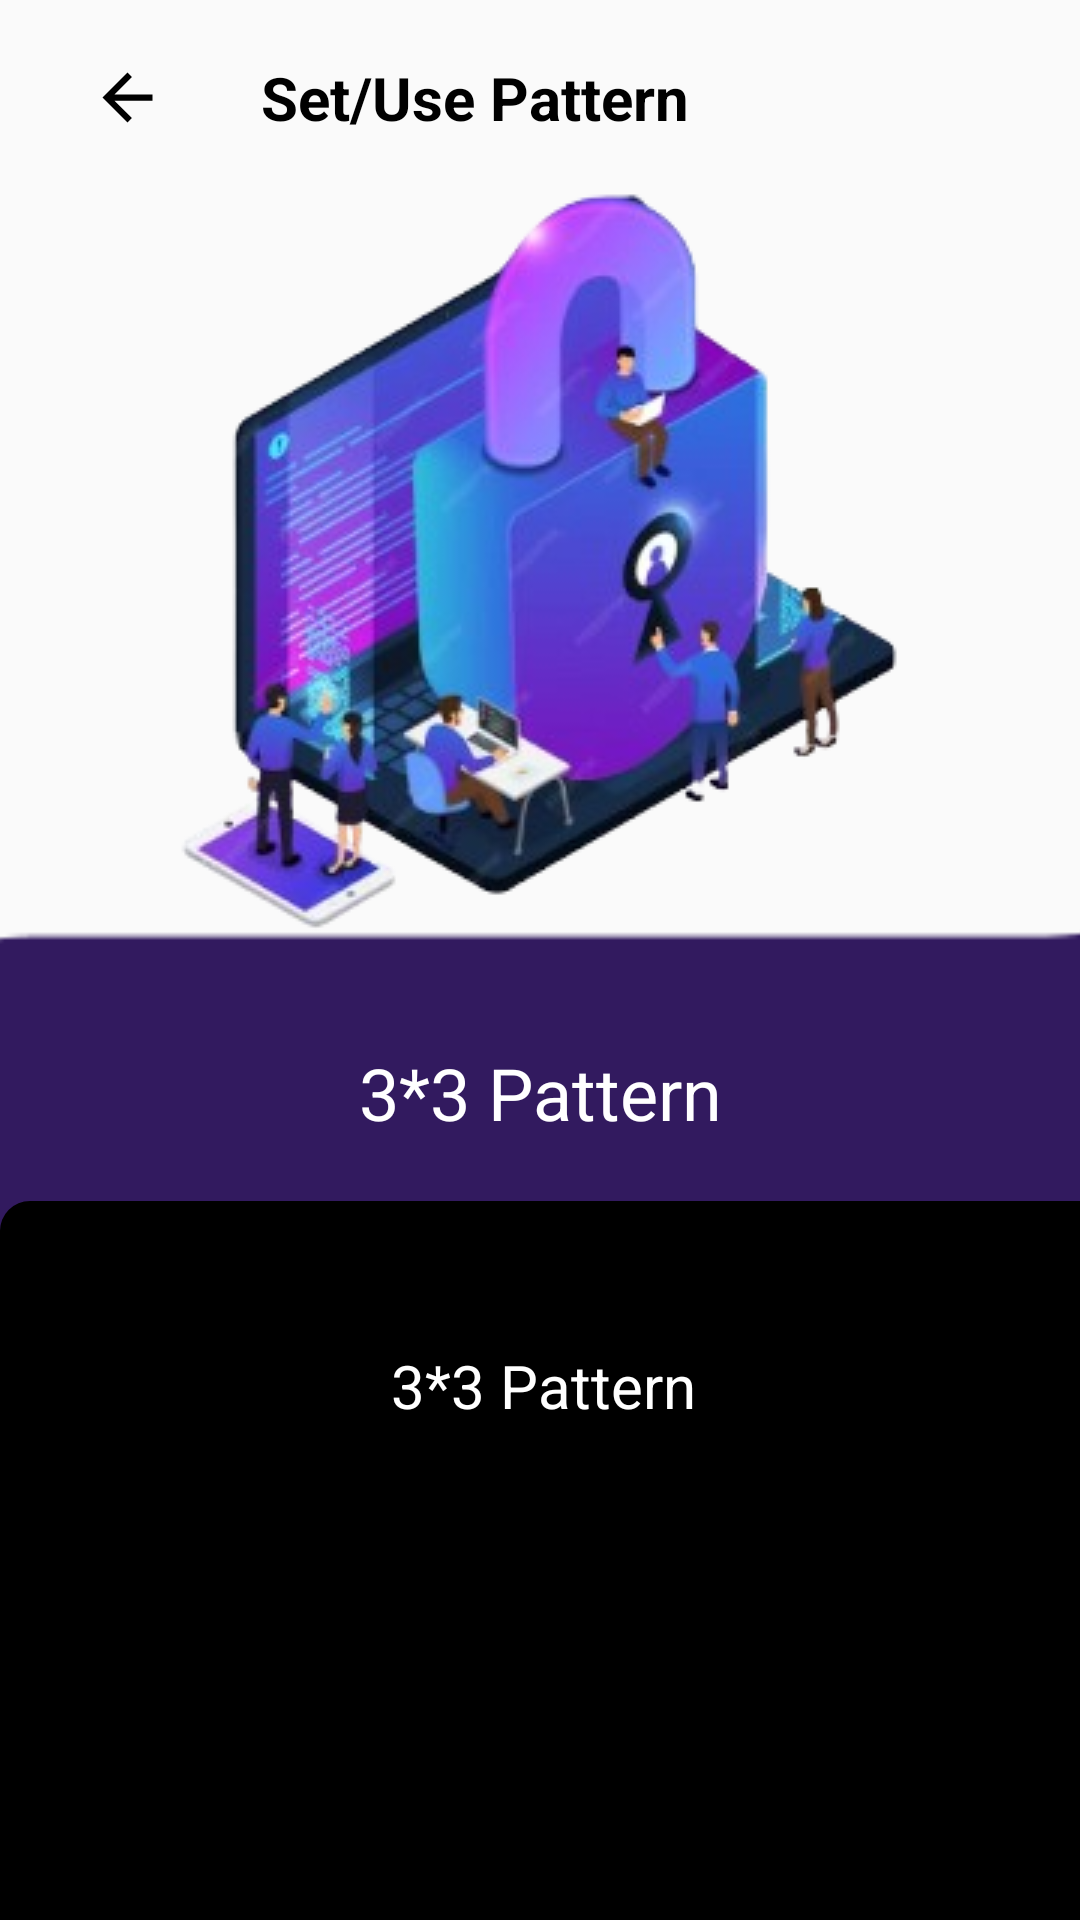

Icon bounding boxes for this 1080 x 1920 phone screenshot, format rect(x1, y1, x2, y2):
arrow back: rect(102, 72, 153, 123)
